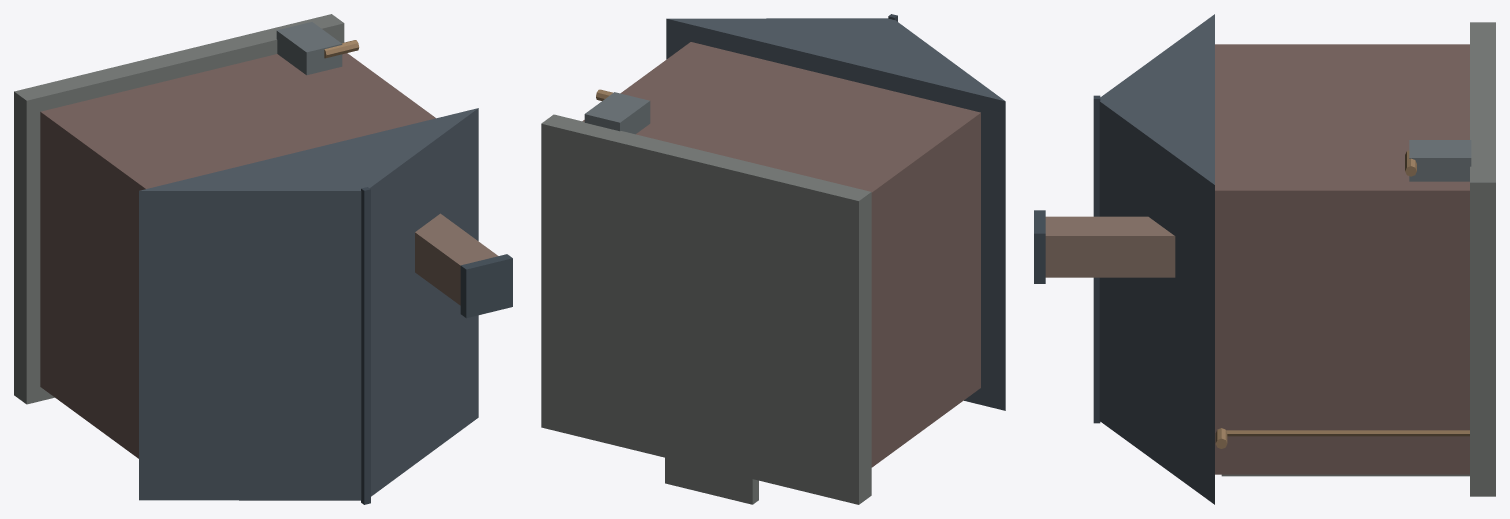
File: powerquest_cottage.glb
The picture shows the model from 3 angles, left to right: view 1: azimuth 30°, elevation 25°; view 2: azimuth 150°, elevation 25°; view 3: azimuth 270°, elevation 25°; orthographic projection. The views are drawn at different scales.
Visible parts, largest first — view 1: CleanPitchedRoof, BrickStructure1, Foundation0, Chimney32, RoofRidgeCap, ChimneyCap33, PowerConnection40; view 2: Foundation0, BrickStructure1, CleanPitchedRoof, EntryStep31, PowerConnection40; view 3: BrickStructure1, CleanPitchedRoof, Foundation0, Chimney32, PowerConnection40, RoofRidgeCap, DrainPipe34, ChimneyCap33, CornerStone39.
Part boxes in pixels (box(x1,y1,x2,y2)): CleanPitchedRoof: box(139, 108, 478, 500); BrickStructure1: box(40, 53, 435, 458); Foundation0: box(14, 14, 344, 404); Chimney32: box(415, 213, 498, 305); RoofRidgeCap: box(361, 187, 370, 504); ChimneyCap33: box(460, 254, 512, 318); PowerConnection40: box(276, 22, 342, 75); Foundation0: box(541, 114, 871, 504); BrickStructure1: box(582, 42, 980, 467); CleanPitchedRoof: box(666, 18, 1005, 410); EntryStep31: box(665, 457, 758, 504); PowerConnection40: box(584, 92, 650, 134); BrickStructure1: box(1215, 44, 1469, 474); CleanPitchedRoof: box(1099, 14, 1214, 504); Foundation0: box(1470, 22, 1495, 496); Chimney32: box(1045, 216, 1175, 277); PowerConnection40: box(1409, 140, 1471, 181); RoofRidgeCap: box(1093, 95, 1100, 423); DrainPipe34: box(1226, 430, 1469, 436); ChimneyCap33: box(1034, 210, 1045, 283); CornerStone39: box(1221, 474, 1469, 476).
Size of the model in its own units: 6.2 by 6.05 by 7.07.
